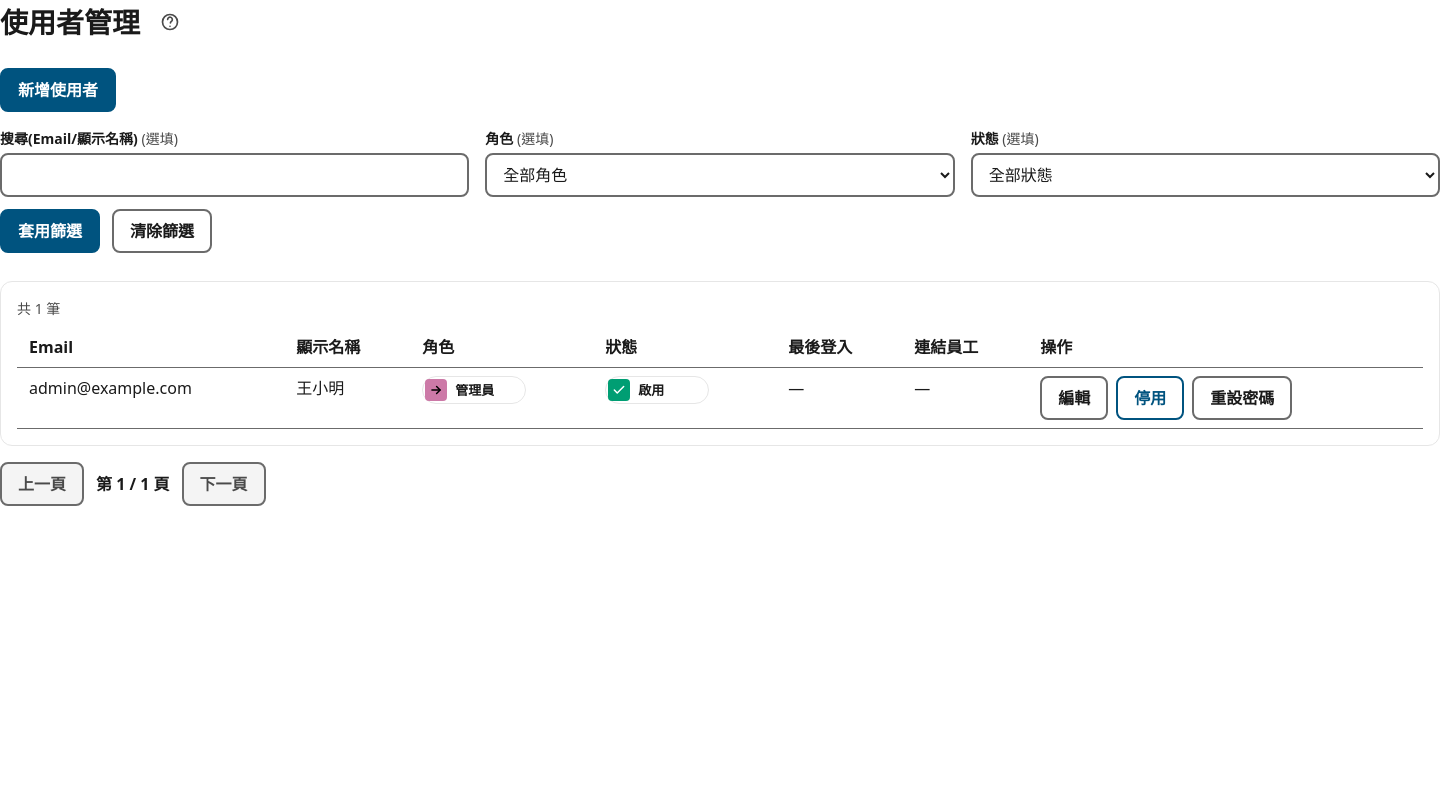
Test: UsersAdminPage › deactivating a user requires confirmation and shows a friendly LAST_ADMIN error
Click the button "停用". click: (1150,398)
box: [1116,376,1184,420]
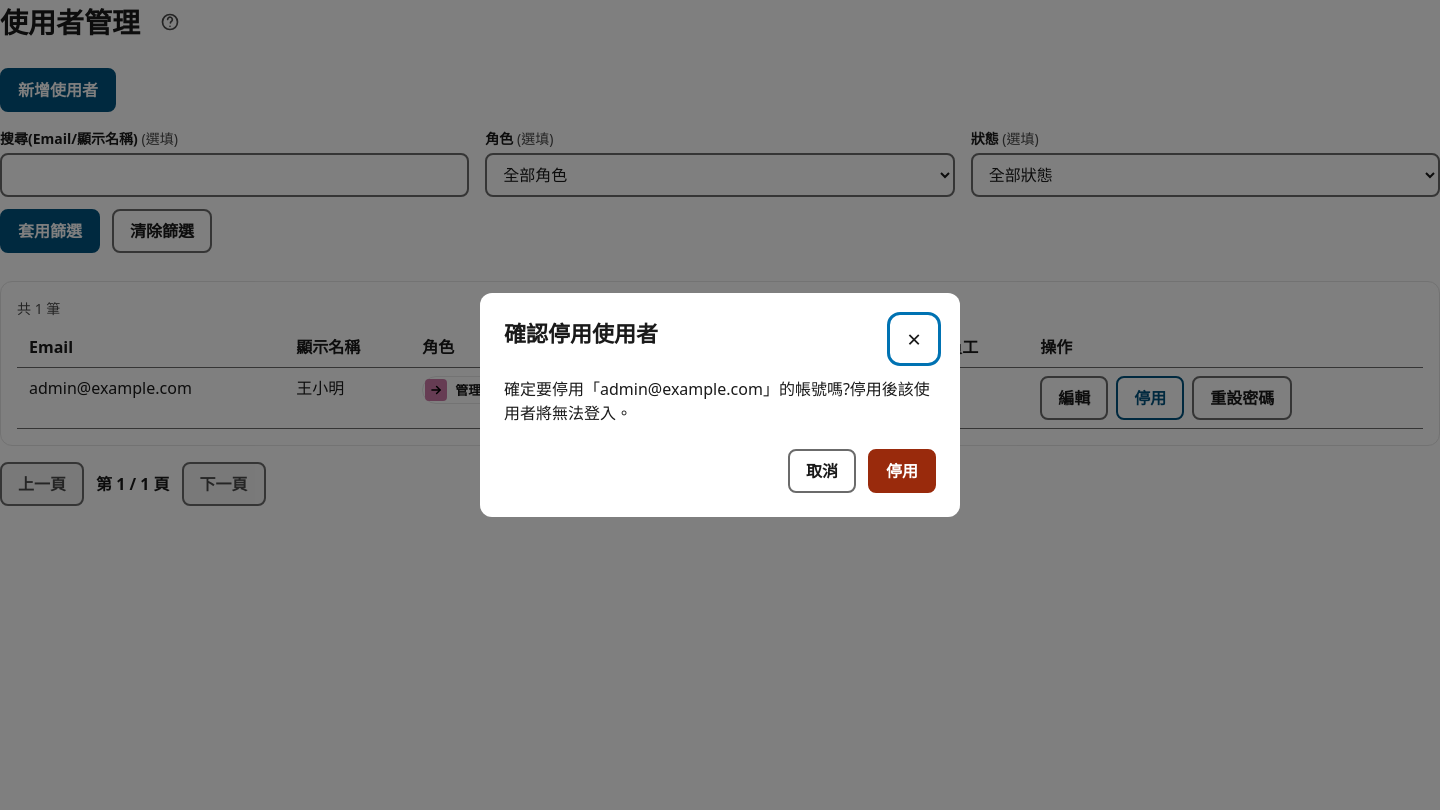
Result: the dialog with class "app-dialog" shows "確定要停用" at [504,378,930,424]
Click the button "停用". click: (902,471)
box: [868,449,936,493]
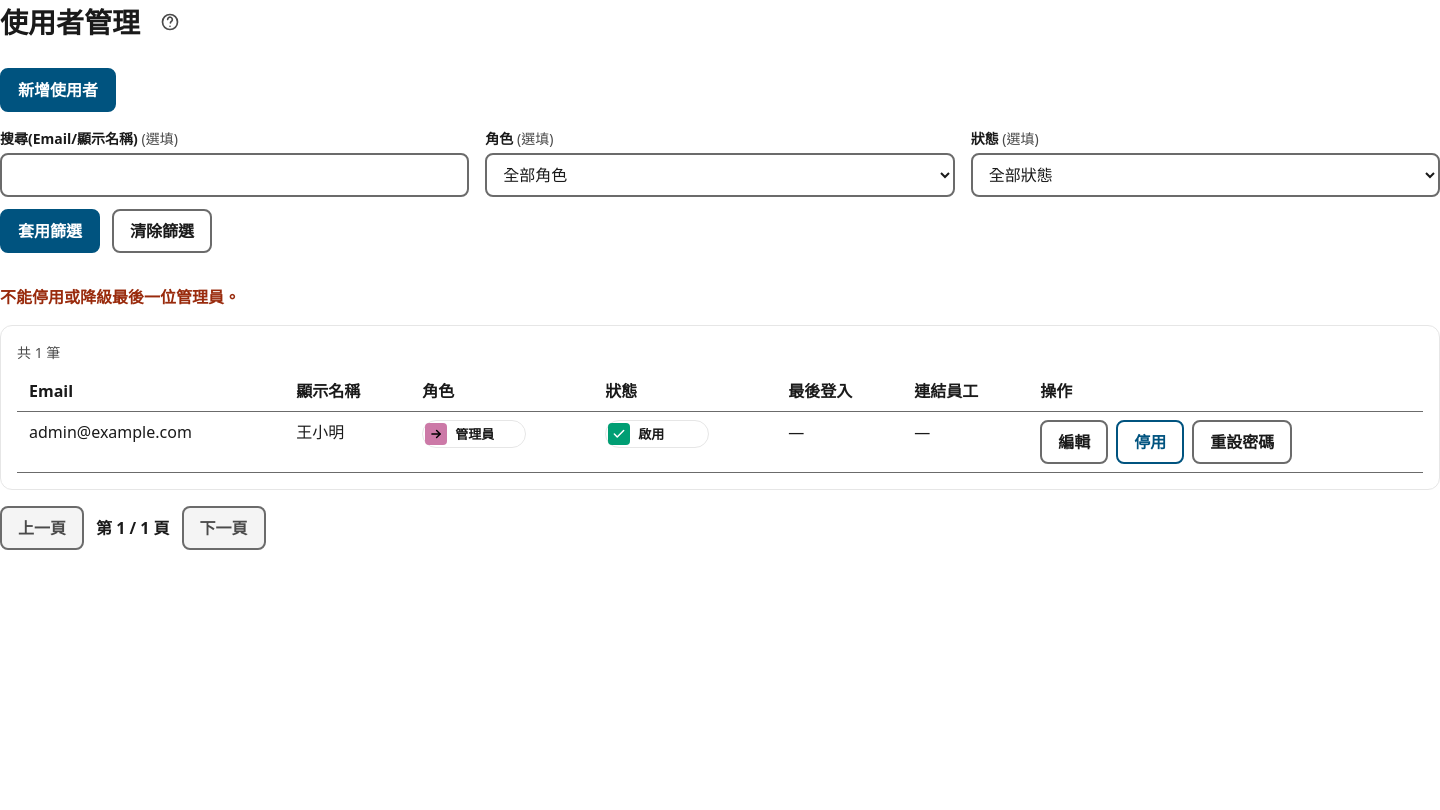
Result: the text "不能停用或降級最後一位管理員" is shown at [0,286,240,308]
